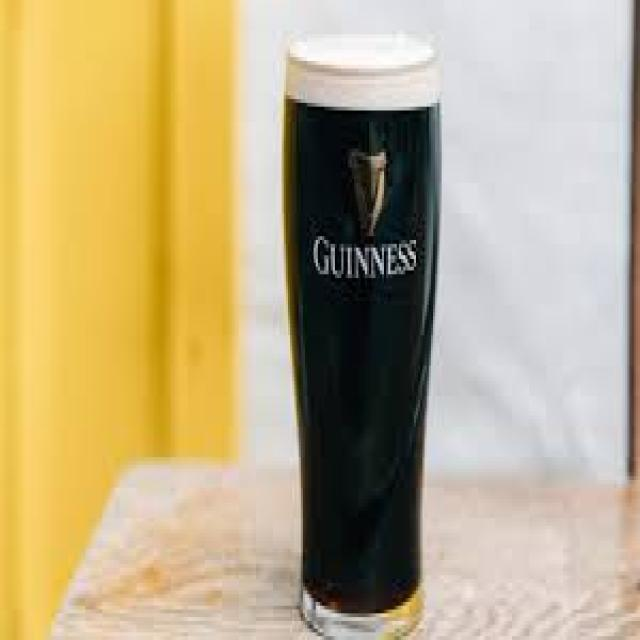guiness_full_glass: (283, 31, 442, 639)
